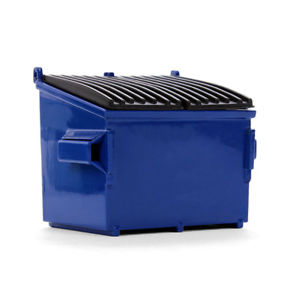Dumpster: (26, 64, 262, 248)
